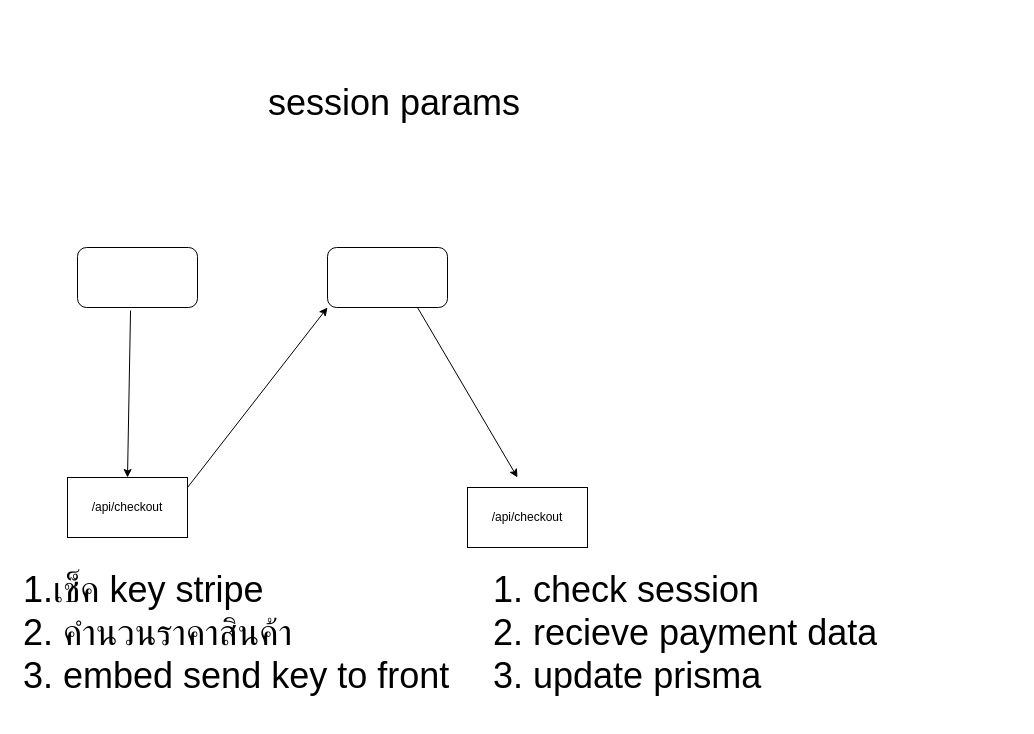
Image size: 1034x734. Some labels were removed from this diagram. Each missing label, with the box of its shape:
Checkout.jsx: (76, 246, 198, 308)
Complete.jsx: (326, 246, 448, 308)
